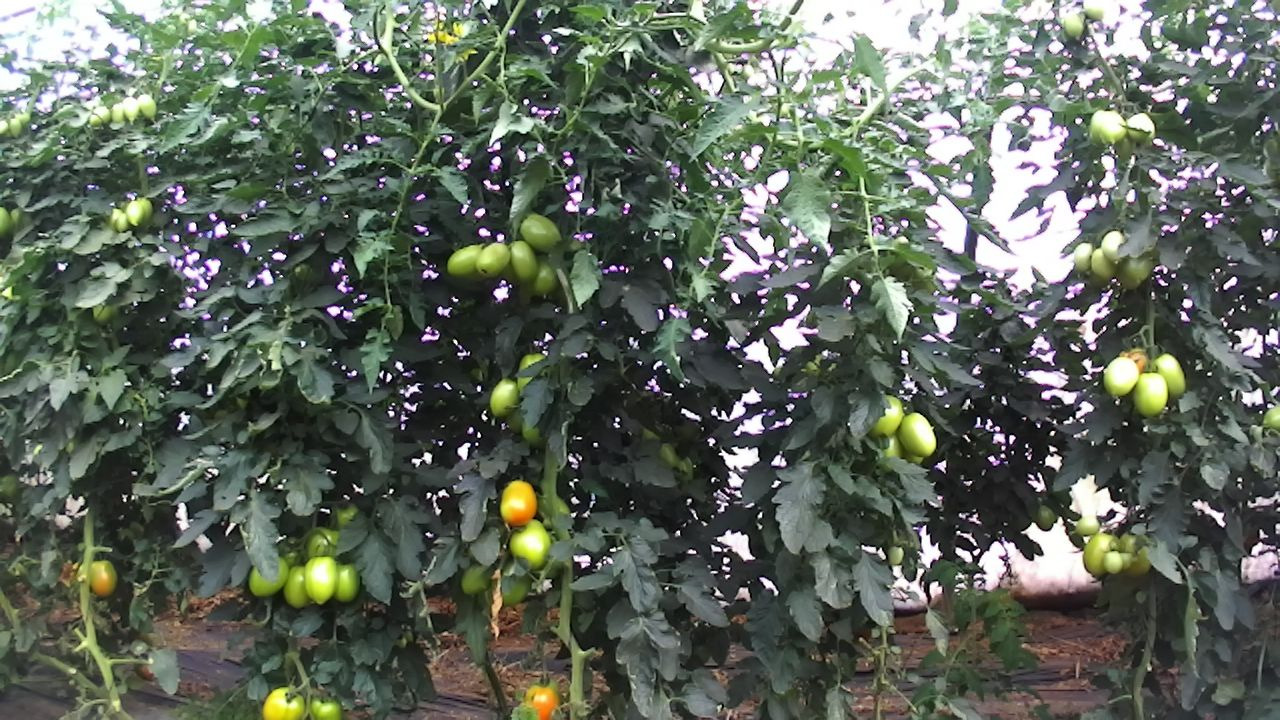tomato: (507, 515, 554, 571), (245, 552, 291, 600), (498, 477, 538, 529), (302, 553, 340, 607), (896, 411, 938, 459), (518, 210, 563, 254), (1149, 351, 1188, 401), (1081, 530, 1121, 578), (258, 681, 306, 720), (1129, 370, 1168, 418), (1100, 355, 1139, 400), (520, 681, 561, 720), (281, 562, 312, 613), (507, 238, 540, 285), (444, 242, 485, 279), (474, 241, 512, 280), (489, 375, 520, 419), (88, 557, 119, 600), (1096, 108, 1128, 146), (334, 560, 361, 605), (459, 561, 493, 596), (1089, 243, 1117, 284), (306, 692, 342, 720), (1098, 229, 1125, 265), (1073, 239, 1096, 273), (123, 198, 147, 227), (1062, 10, 1084, 41), (1034, 502, 1056, 533), (1073, 512, 1100, 537), (136, 91, 157, 123), (1101, 549, 1123, 574), (121, 95, 139, 122), (885, 545, 906, 565), (109, 101, 125, 124)
